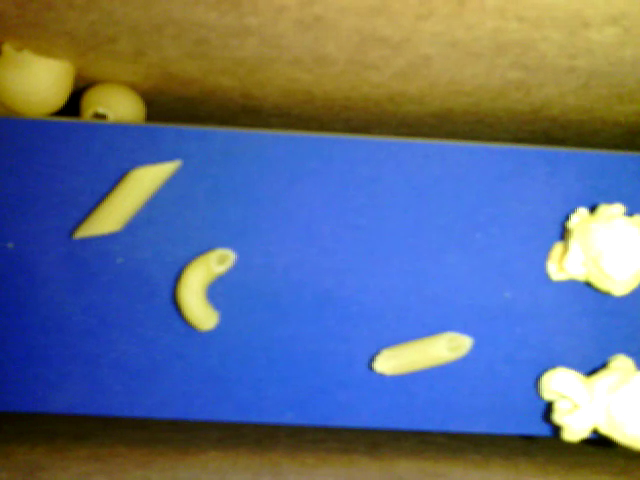elbow: (174, 248, 235, 330)
penne: (73, 160, 180, 237), (371, 331, 471, 373)
shell: (1, 42, 75, 116), (82, 81, 144, 121)
